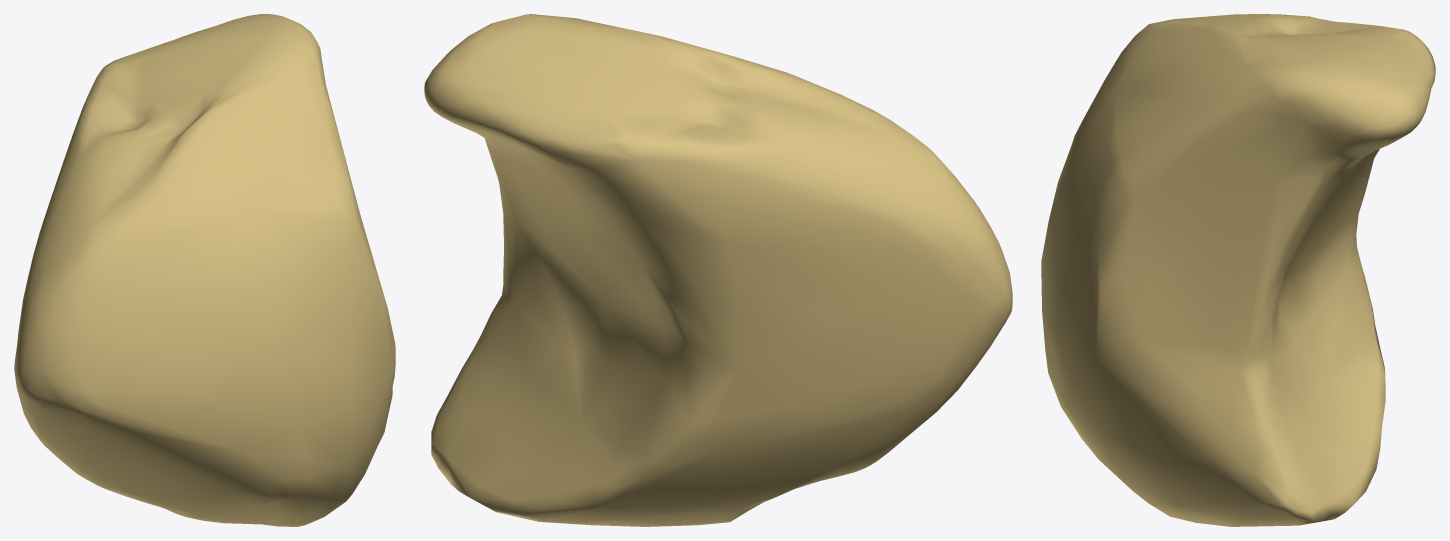
3 renders of one model, left to right at view 1: azimuth 30°, elevation 25°; view 2: azimuth 150°, elevation 25°; view 3: azimuth 270°, elevation 25°, orthographic. The views are drawn at different scales.
Parts seen in each view (by area): view 1: 左侧月骨; view 2: 左侧月骨; view 3: 左侧月骨.
Part boxes in pixels (x1,y1,x2,y2): 左侧月骨: (14, 14, 395, 526); 左侧月骨: (424, 14, 1012, 526); 左侧月骨: (1041, 14, 1435, 526).
Bounding box in the file's own units: 0.0252 × 0.0245 × 0.0188.
